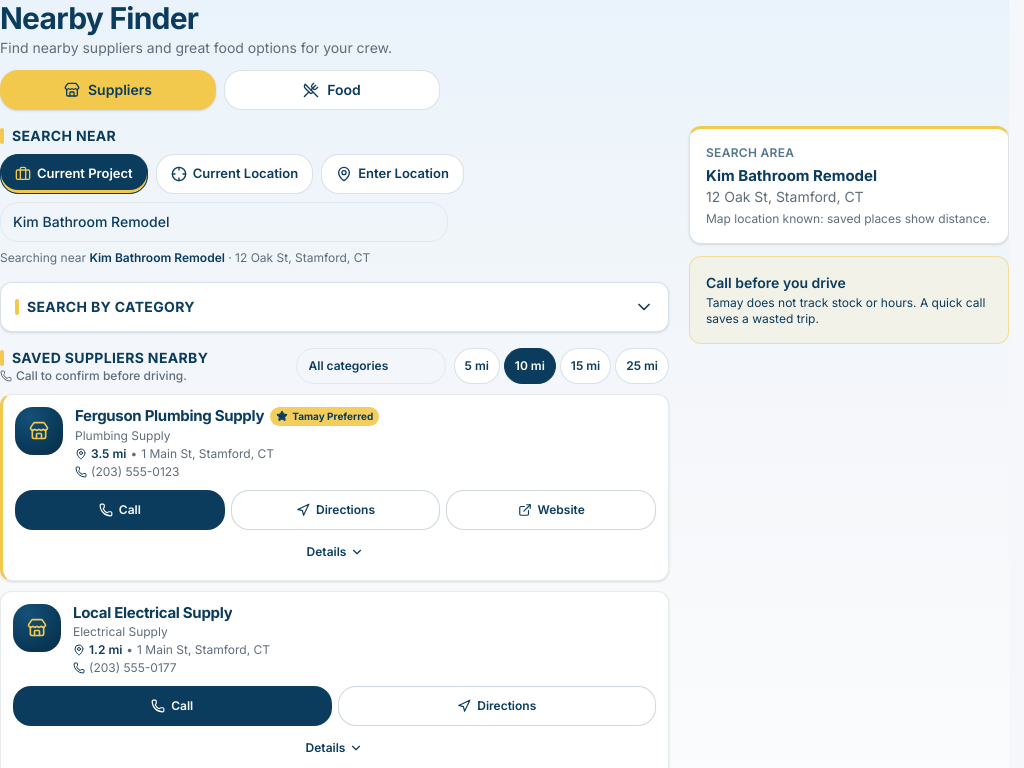
Test: Saved Nearby (below the searches, cards unchanged) › Food shows Crew Favorites Nearby
Click the button "Food" at (332, 90), box [224,70,440,110]
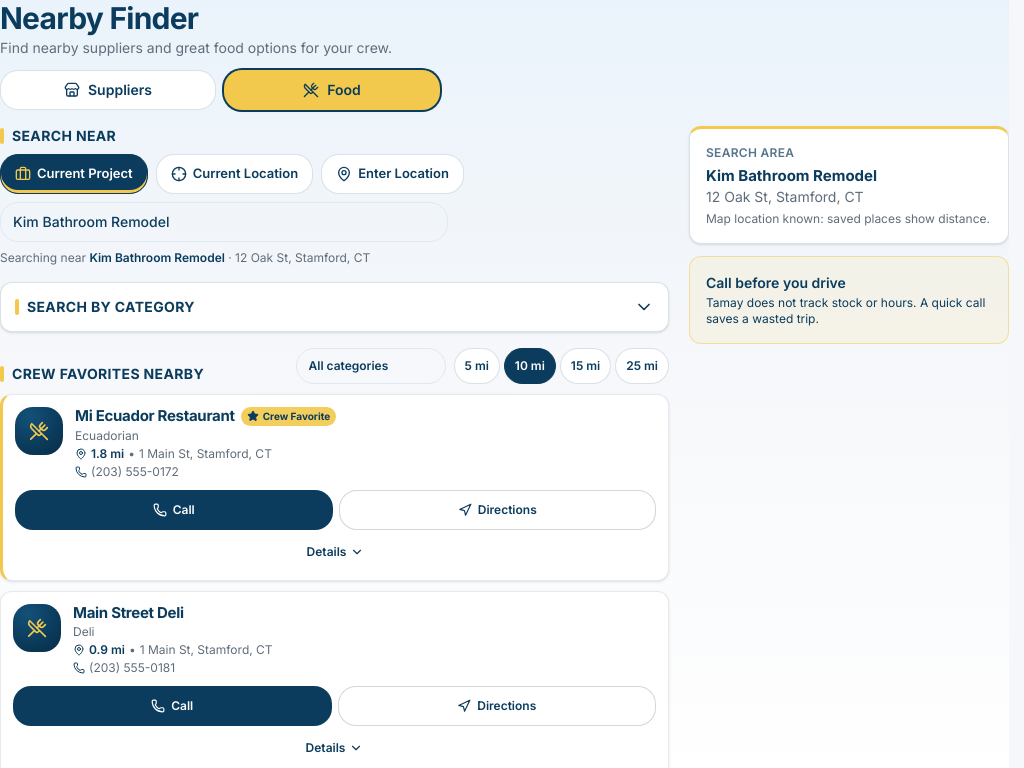
expect the heading "Crew Favorites Nearby" is shown: met, box [0,364,204,384]
expect the text "Crew Favorite" is shown: met, box [241,406,336,426]
